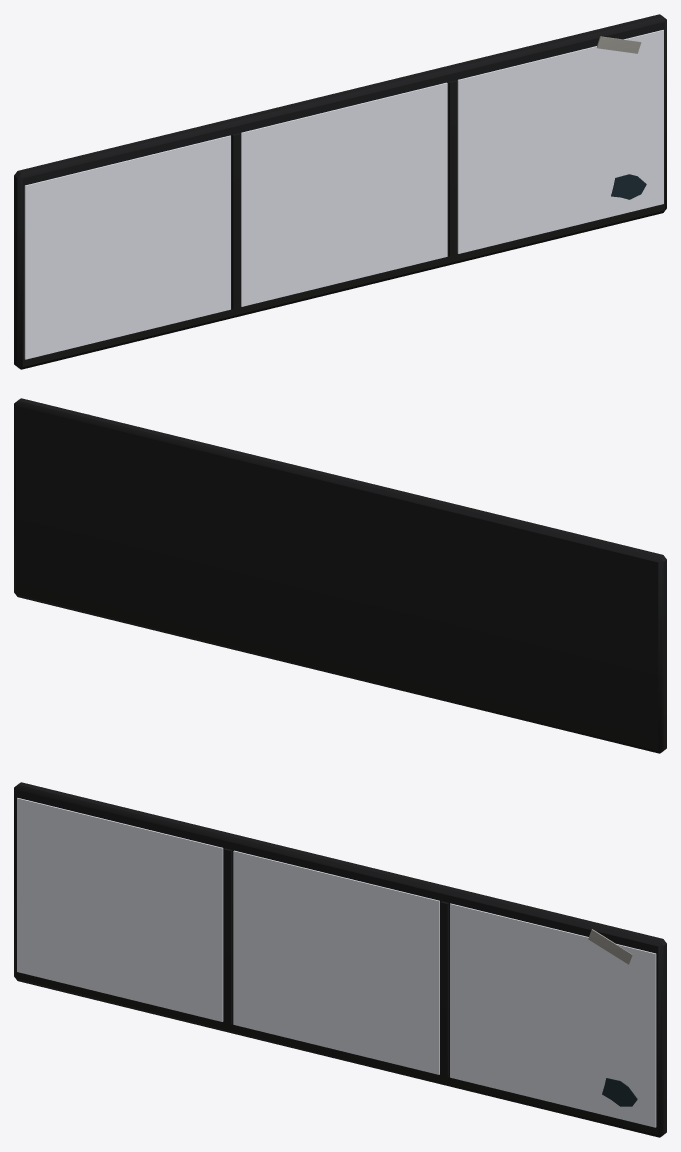
The model's file is 72_panneau_menu_lumineux.fbx.
3 renders of one model, top to bottom at view 1: azimuth 30°, elevation 25°; view 2: azimuth 150°, elevation 25°; view 3: azimuth 330°, elevation 25°, orthographic.
Visible parts, largest first — view 1: Ecran, Cadre; view 2: Cadre; view 3: Ecran, Cadre.
Part boxes in pixels (x1=…): Ecran: x1=24, y1=30, x2=663, y2=359; Cadre: x1=14, y1=14, x2=666, y2=369; Cadre: x1=14, y1=398, x2=666, y2=753; Ecran: x1=17, y1=798, x2=656, y2=1127; Cadre: x1=14, y1=782, x2=666, y2=1137.
Bounding box in the file's own units: 2.52 × 0.728 × 0.056.
1 material, 1 textured.
